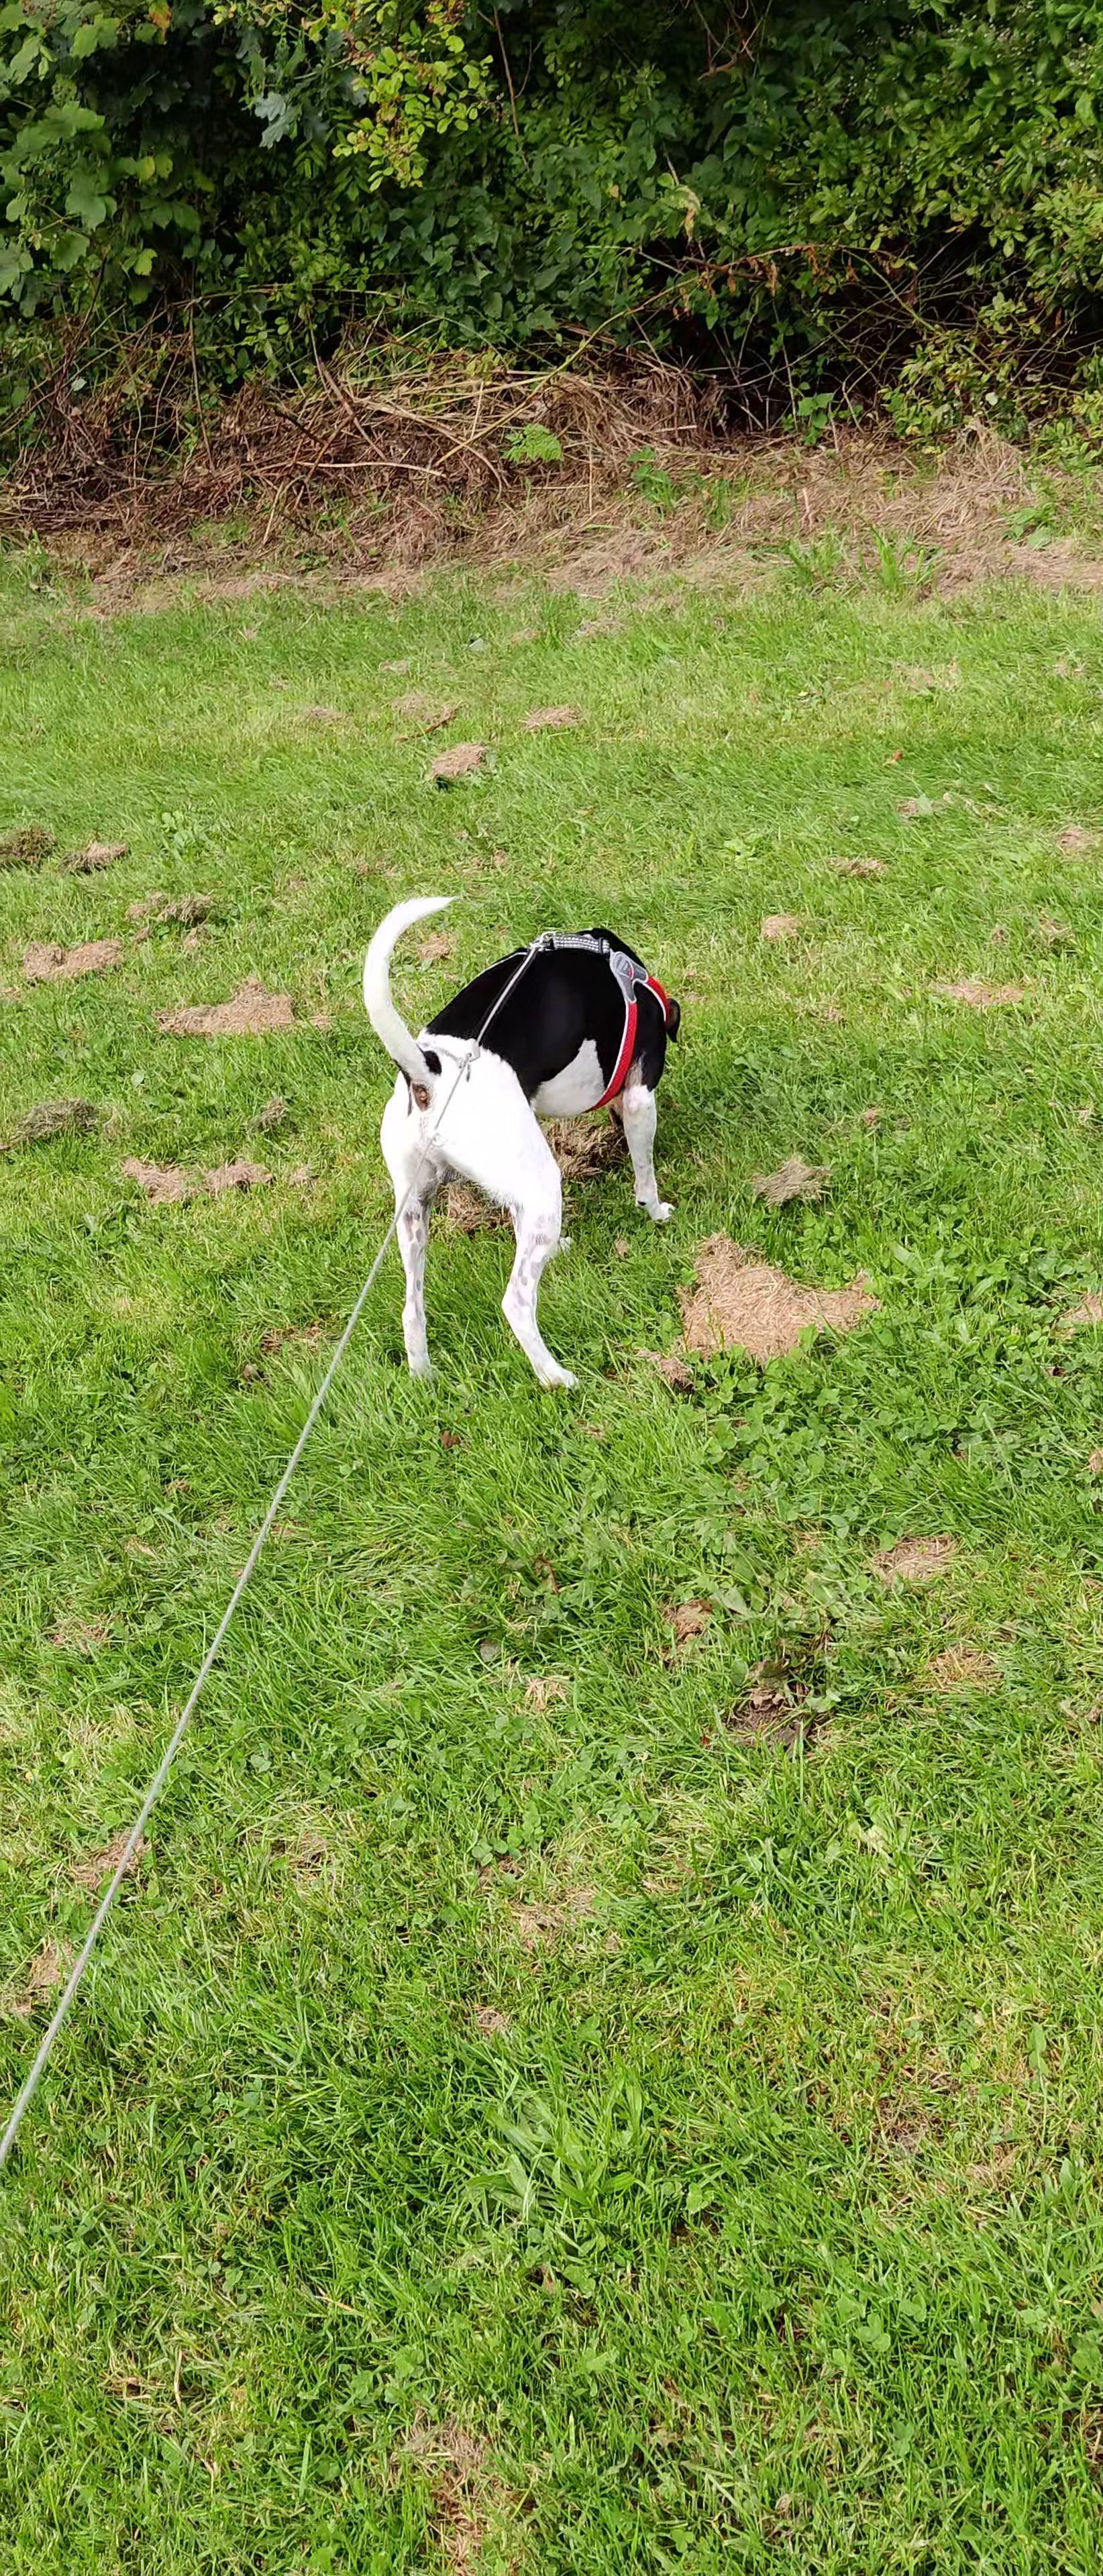Dog: (355, 890, 684, 1393)
